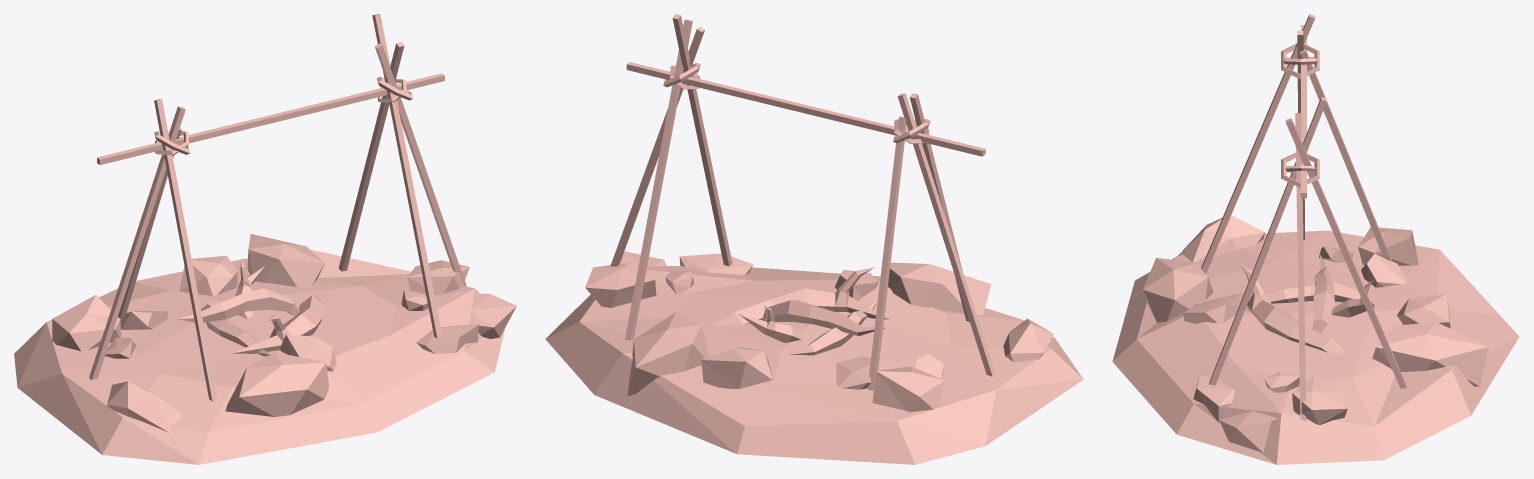
The model's file is Mega_Asset_s_Pack_Plane_009.FBX.
The picture shows the model from 3 angles, left to right: view 1: azimuth 30°, elevation 25°; view 2: azimuth 150°, elevation 25°; view 3: azimuth 270°, elevation 25°; orthographic projection. The views are drawn at different scales.
Parts seen in each view (by area): view 1: Mega_Asset_s_Pack_Plane_009; view 2: Mega_Asset_s_Pack_Plane_009; view 3: Mega_Asset_s_Pack_Plane_009.
Boxes of the visible parts, x1,y1,x2,y2 form: Mega_Asset_s_Pack_Plane_009: [14, 14, 516, 464]; Mega_Asset_s_Pack_Plane_009: [545, 14, 1083, 464]; Mega_Asset_s_Pack_Plane_009: [1112, 14, 1519, 464].
Size of what is drawn, in the model's own units: 323 by 258 by 220.
